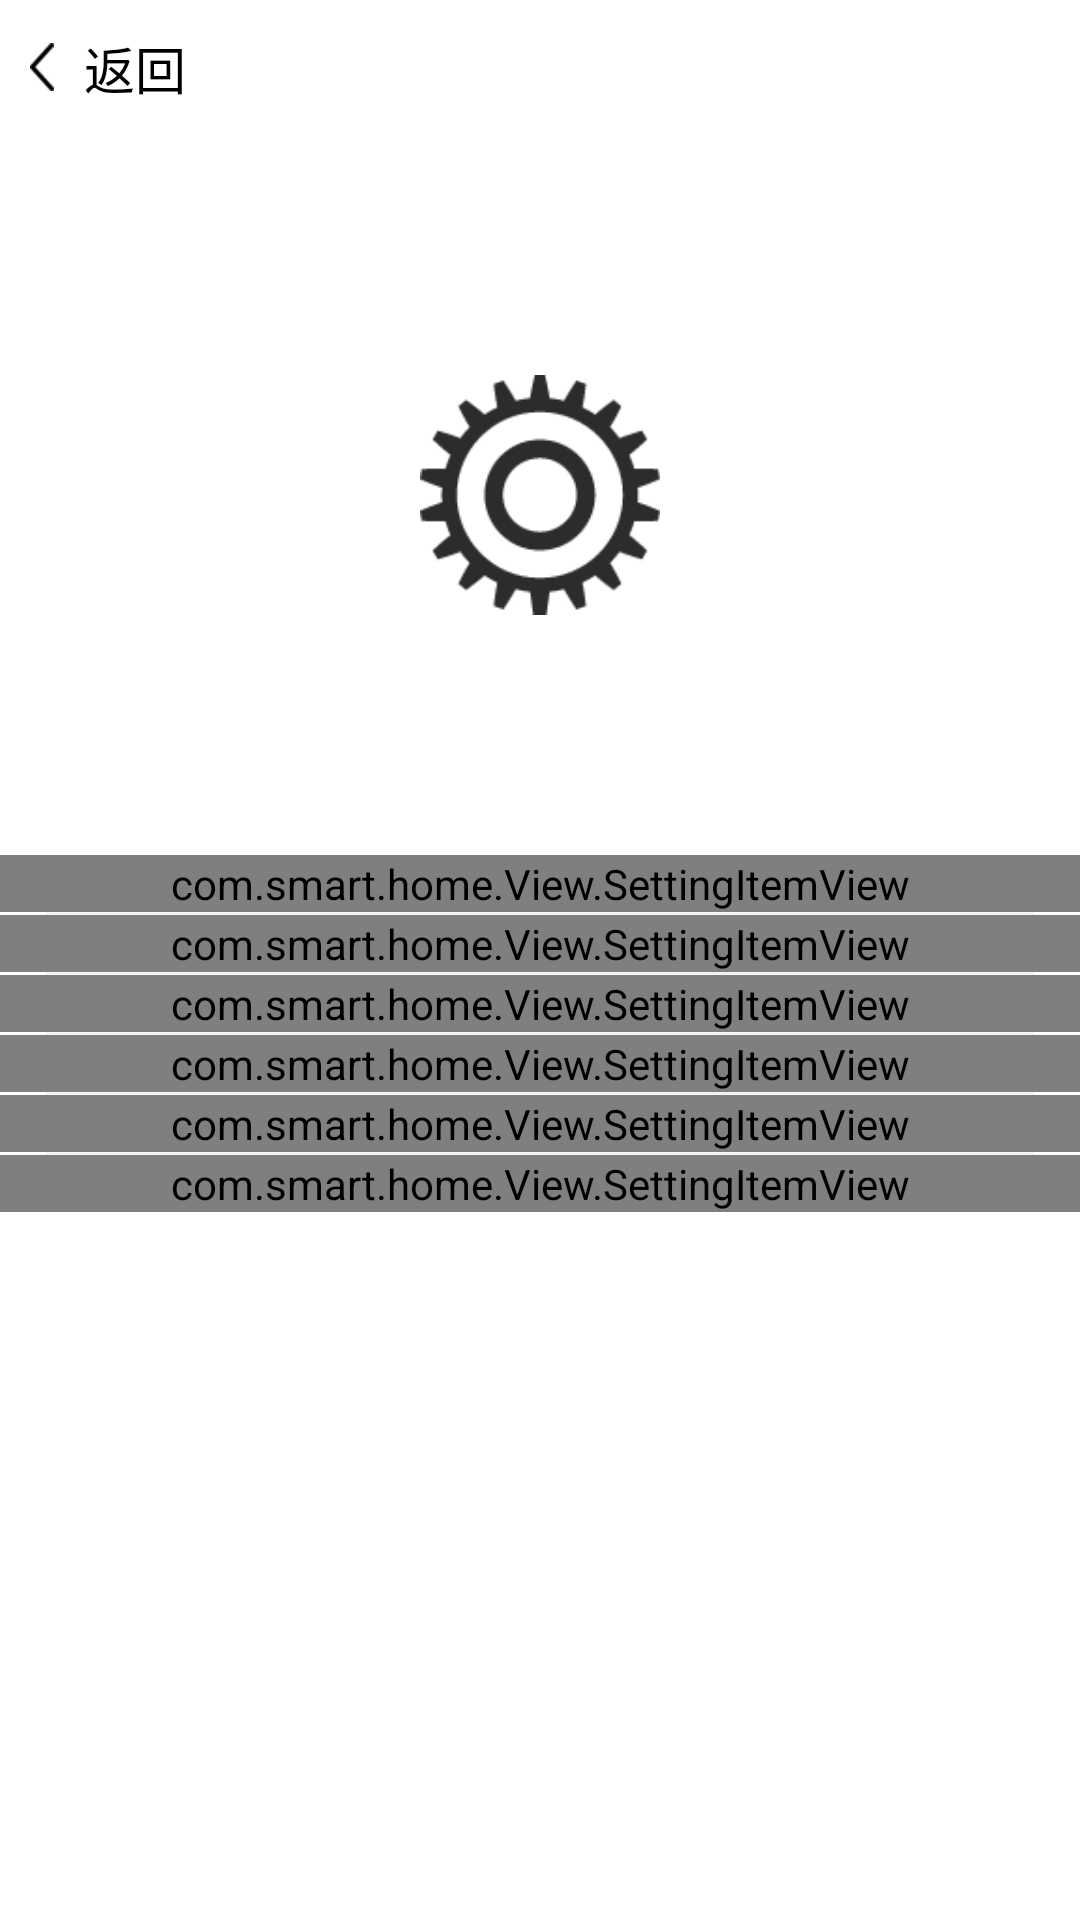

Named icons in this screenshot (1080px×1920px) and their bounding boxes, (x1=x1, y1=y1, x2=x2, y2=y2):
setting view: (x1=420, y1=375, x2=660, y2=615)
